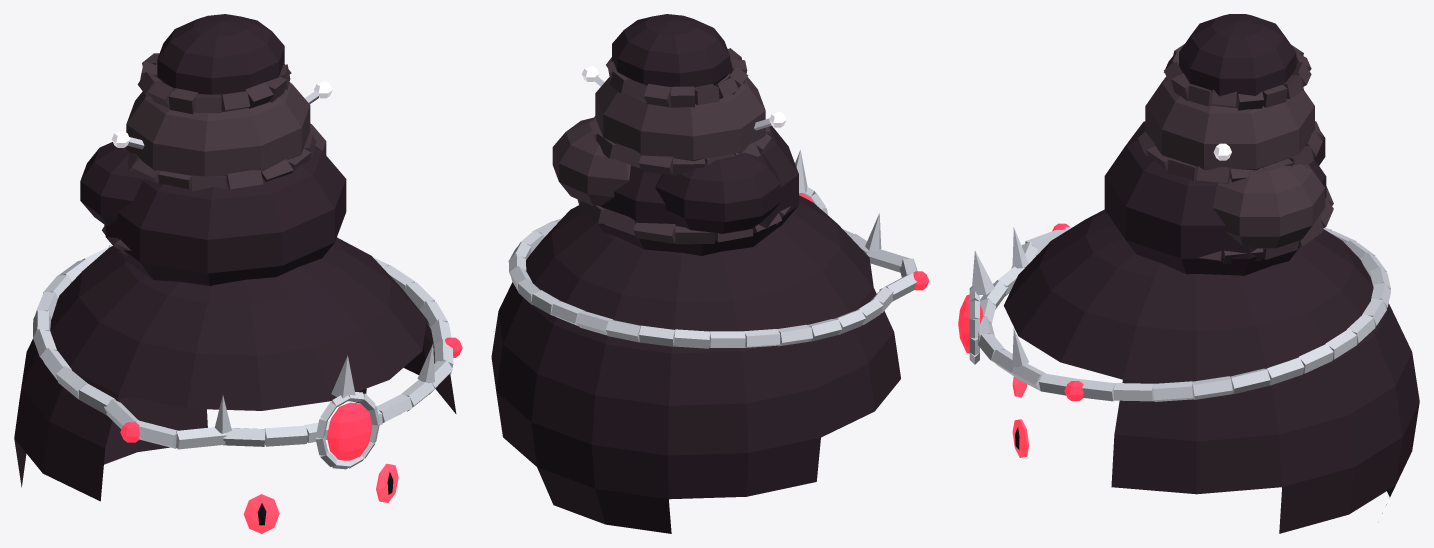
The model's file is countess_morvaine_crown.glb.
3 renders of one model, left to right at view 1: azimuth 30°, elevation 25°; view 2: azimuth 150°, elevation 25°; view 3: azimuth 270°, elevation 25°, orthographic. The views are drawn at different scales.
Parts seen in each view (by area): view 1: countess_morvaine_crown; view 2: countess_morvaine_crown; view 3: countess_morvaine_crown.
Boxes of the visible parts, left/top/right/bottom form: countess_morvaine_crown: left=14, top=14, right=462, bottom=533; countess_morvaine_crown: left=491, top=14, right=929, bottom=533; countess_morvaine_crown: left=958, top=14, right=1419, bottom=533.
Size of the model in its own units: 1.18 by 1.42 by 1.24.
